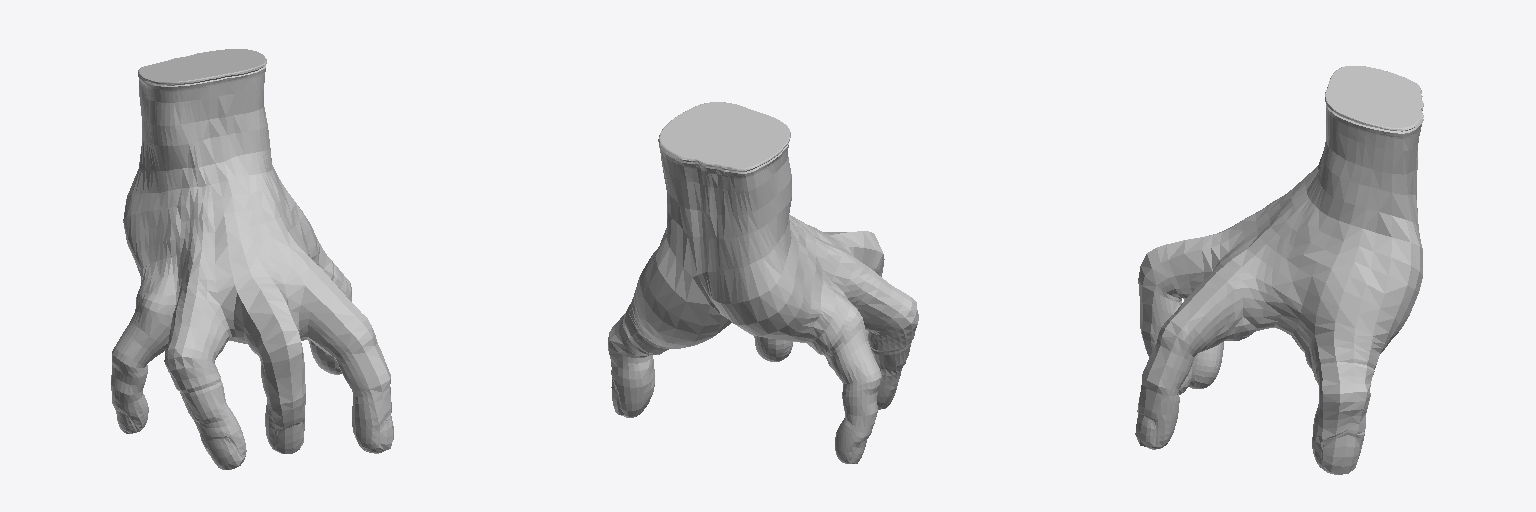
The model's file is Sketchfab_2022_12_28_11_35_51.obj.
3 renders of one model, left to right at view 1: azimuth 30°, elevation 25°; view 2: azimuth 150°, elevation 25°; view 3: azimuth 270°, elevation 25°, orthographic.
Visible parts, largest first — view 1: RetopoFlowLOW; view 2: RetopoFlowLOW; view 3: RetopoFlowLOW.
Part boxes in pixels (left/top/right/bottom): RetopoFlowLOW: left=111, top=49, right=393, bottom=469; RetopoFlowLOW: left=608, top=102, right=918, bottom=463; RetopoFlowLOW: left=1135, top=66, right=1423, bottom=474.
Size of the model in its own units: 1.26 by 1.58 by 1.25.